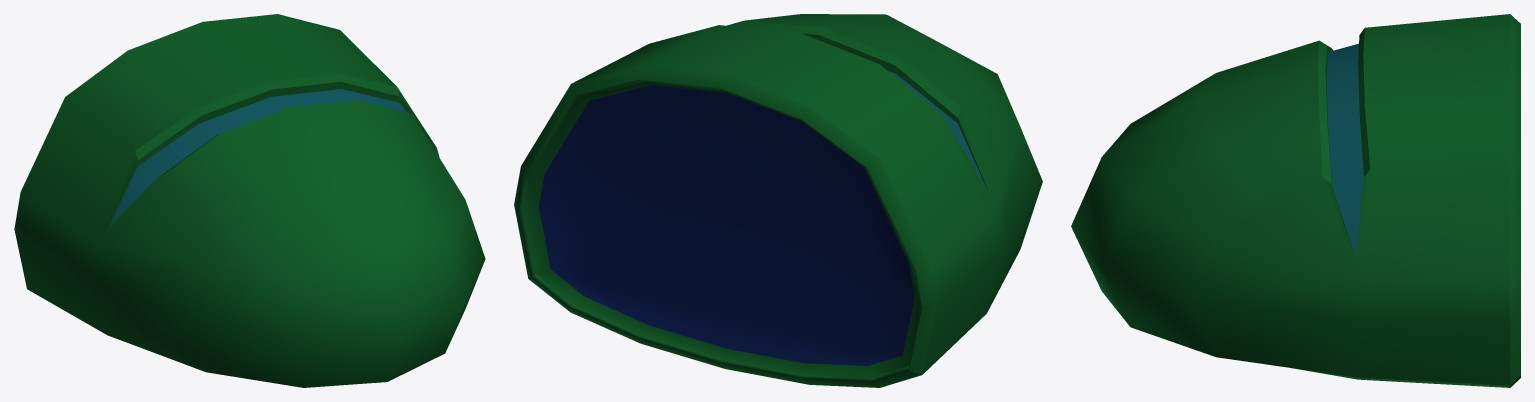
The model's file is MESH_SlicedBread.fbx.
3 renders of one model, left to right at view 1: azimuth 30°, elevation 25°; view 2: azimuth 150°, elevation 25°; view 3: azimuth 270°, elevation 25°, orthographic. The views are drawn at different scales.
Parts seen in each view (by area): view 1: MESH_SlicedBread; view 2: MESH_SlicedBread; view 3: MESH_SlicedBread.
Boxes of the visible parts, box(x1,y1,x2,y2) form: MESH_SlicedBread: box(14, 14, 485, 387); MESH_SlicedBread: box(514, 14, 1042, 387); MESH_SlicedBread: box(1071, 14, 1520, 387).
Size of the model in its own units: 0.144 by 0.0957 by 0.1349.
